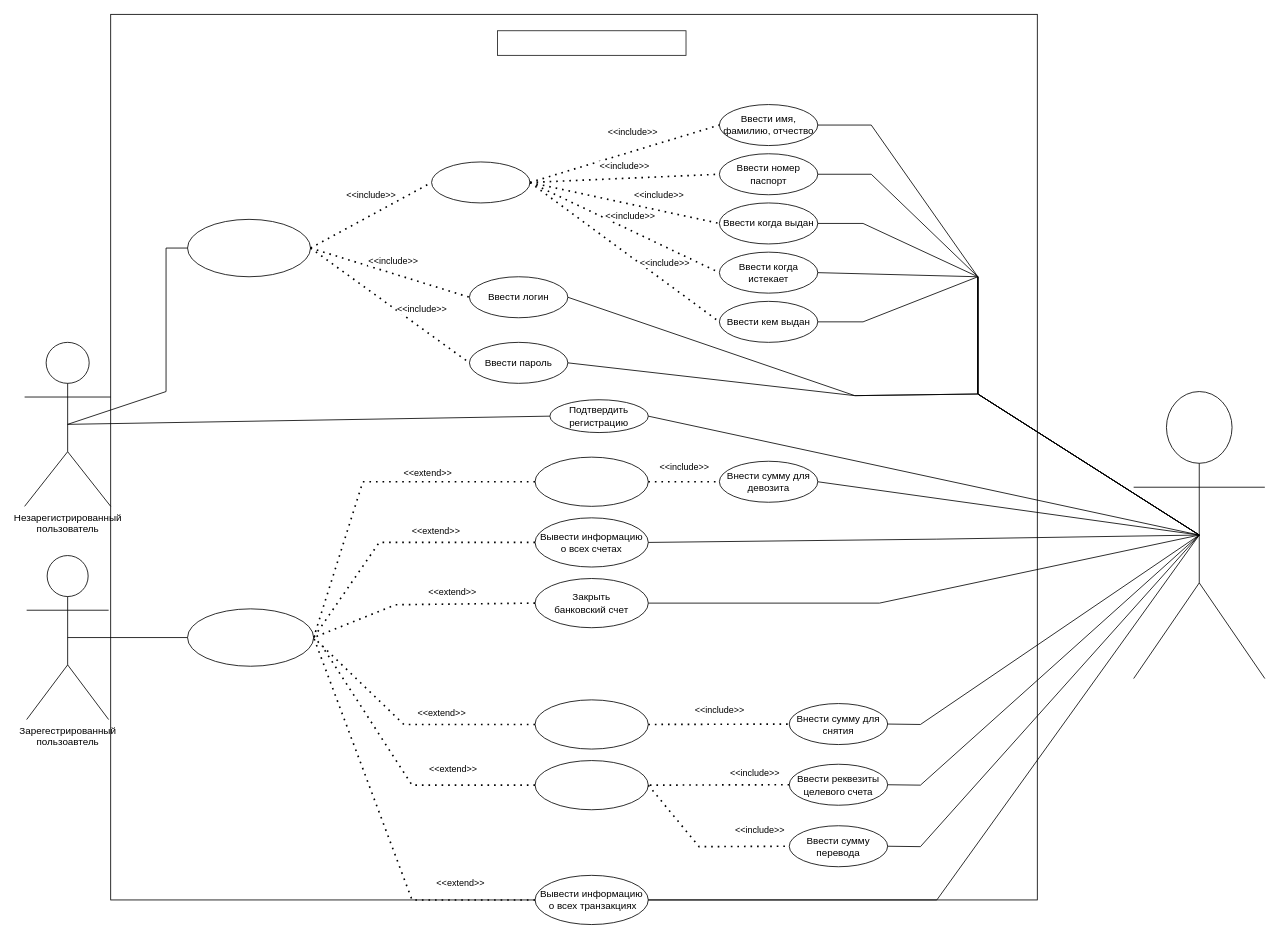
Image size: 1279x939. Some labels were removed from this diagram. The centre of each missing label's shape, as x and y in pixels:
"Авторизоваться в системе банка (войти в свой аккаунт)" goes at [250,637].
"Банк" goes at [1199,535].
"Банковский клиент(приложение)" goes at [591,42].
"Ввести данные паспорта" goes at [480,182].
"Перевести деньги с одного банковского счета на другой" goes at [591,785].
"Положить деньги на банковский счет" goes at [591,481].
"Снять деньги со банковского счета" goes at [591,724].
"Создать аккаунт" goes at [249,248].
